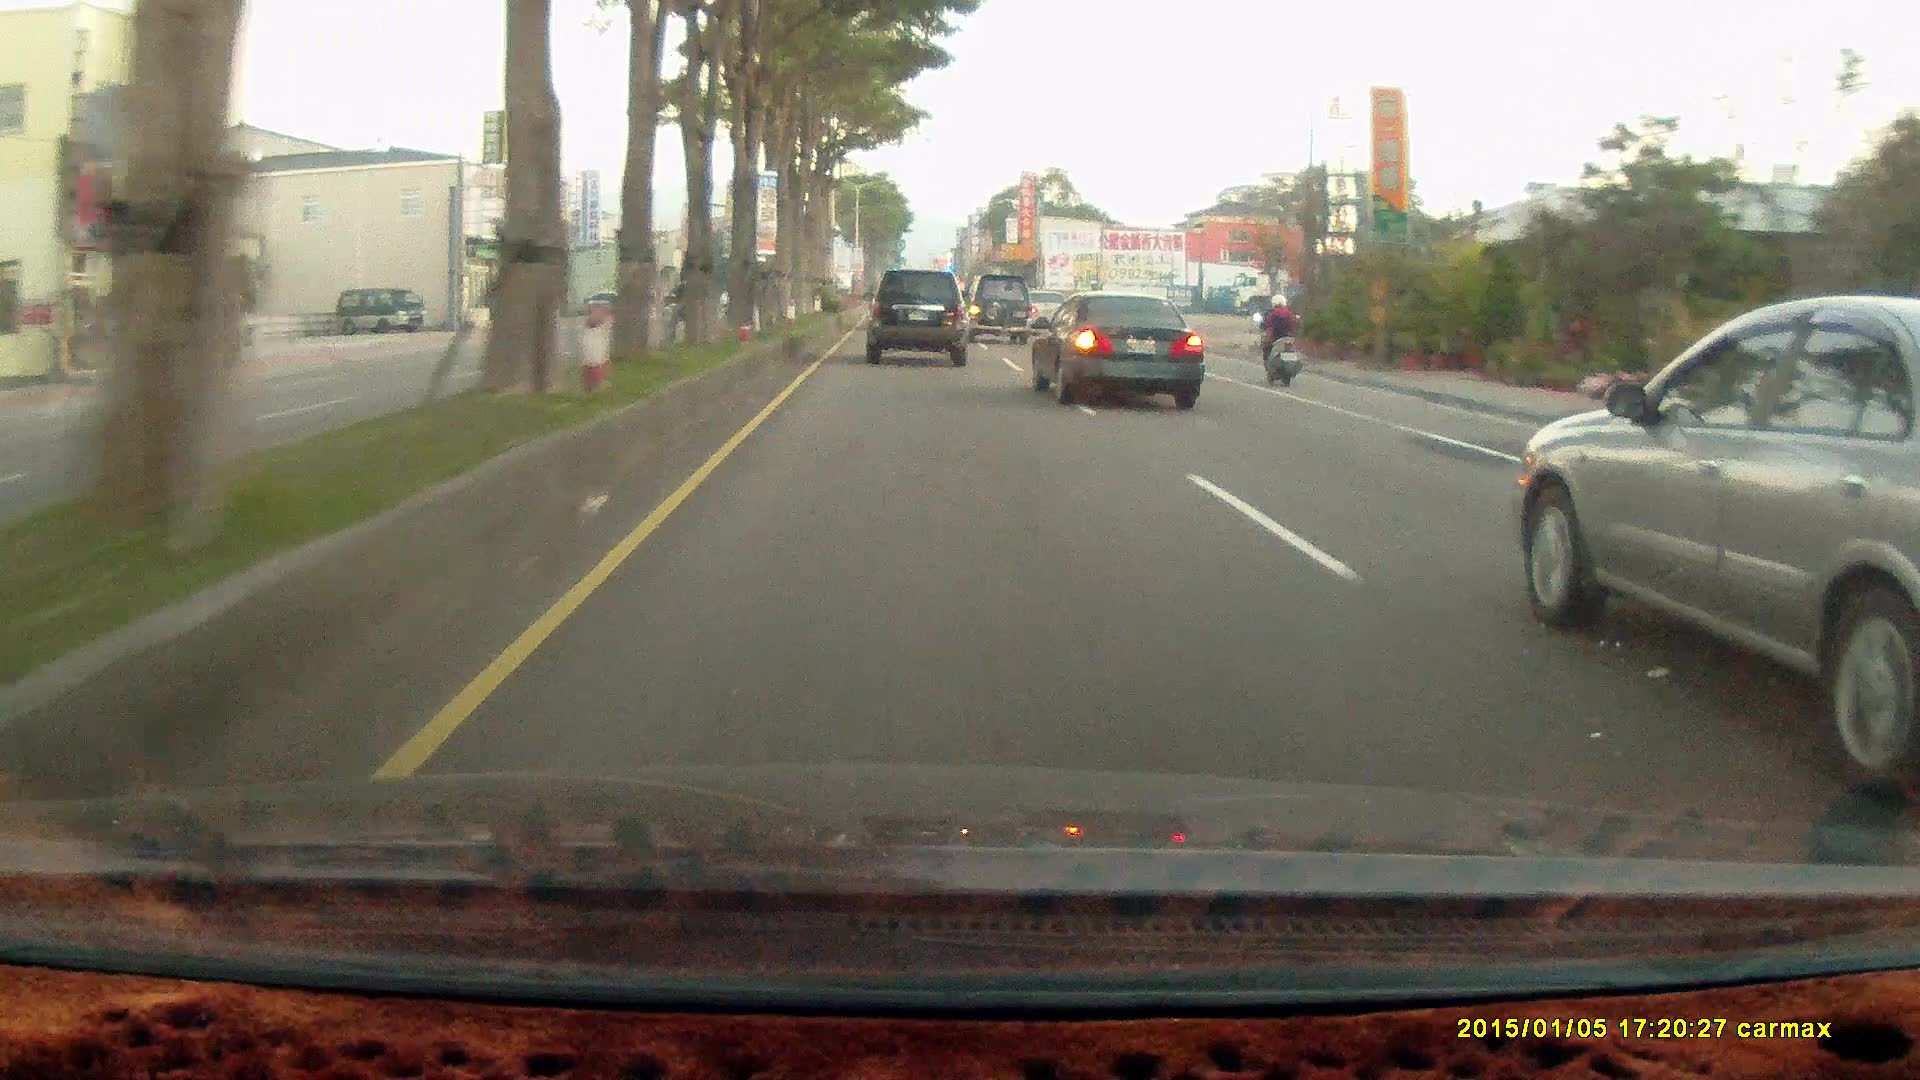rider: (1246, 284, 1314, 400), (1251, 286, 1302, 381)
vehicle: (1508, 290, 1920, 798), (1030, 289, 1209, 407), (1030, 291, 1203, 412), (1232, 268, 1444, 319), (866, 265, 970, 364), (862, 266, 968, 364), (962, 270, 1033, 346), (337, 282, 436, 330), (333, 285, 422, 331)
